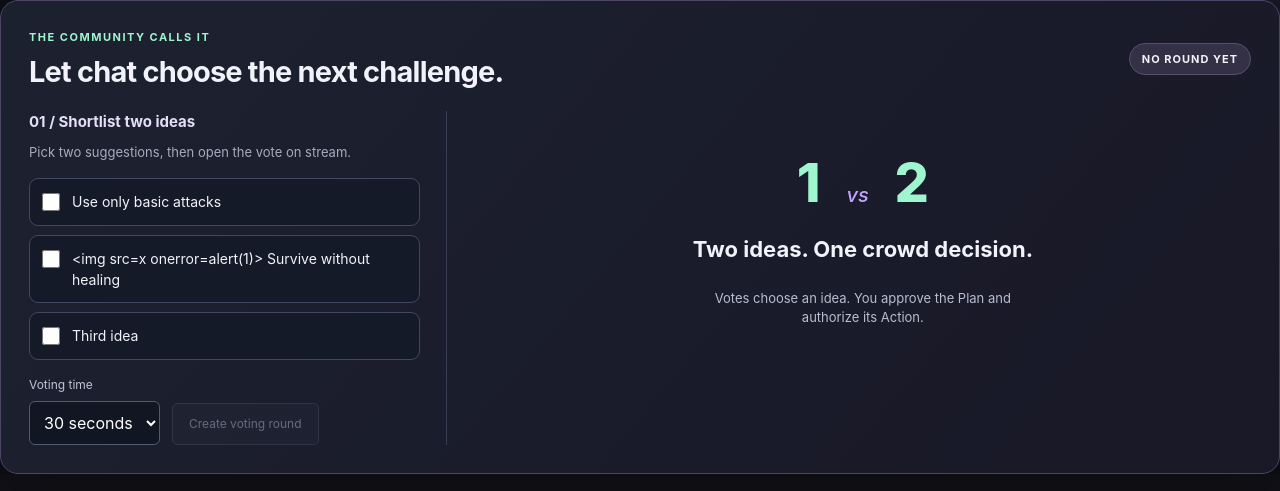
Test: shortlists exactly two and creates only a Draft with no approval request
Expected: the button "Create voting round" is disabled, [172, 403, 318, 445]
Click the checkbox labelled "Use only basic attacks".
click(51, 202)  # box [42, 193, 60, 211]
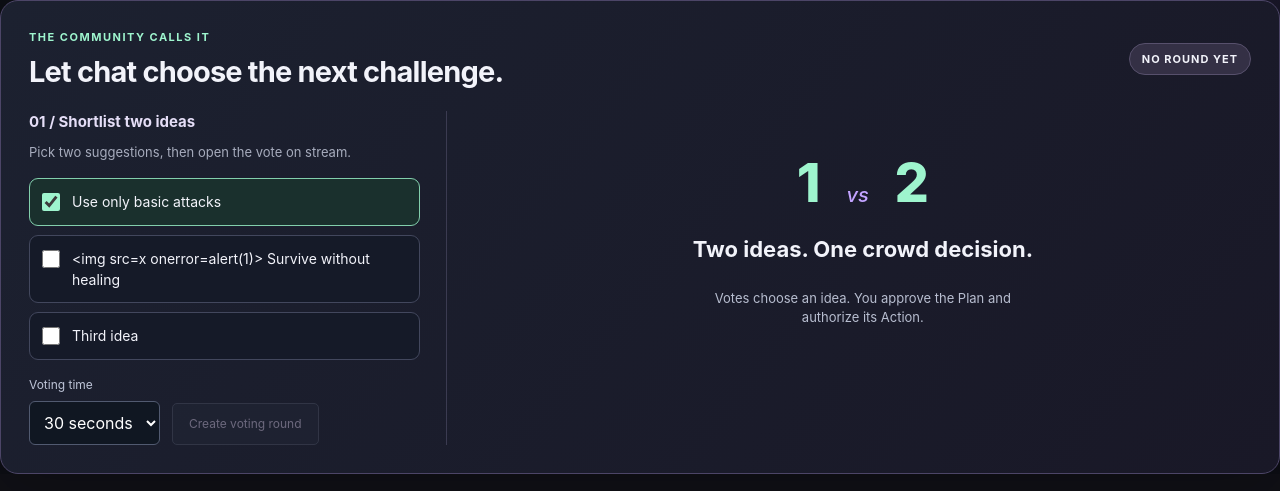
Click the checkbox labelled "<img src=x onerror=alert(1)> Survive without healing".
click(51, 259)  # box [42, 250, 60, 268]
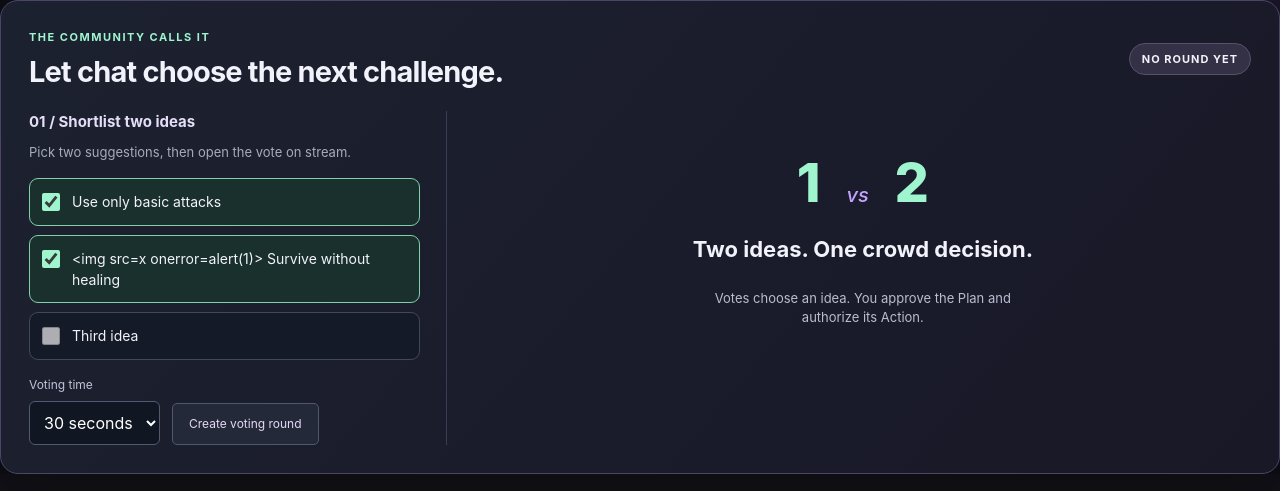
Expected: the checkbox named "Shortlist Third idea" is disabled, [42, 327, 60, 345]
Expected: the button "Create voting round" is enabled
Click the button "Create voting round".
click(245, 424)  # box [172, 403, 318, 445]
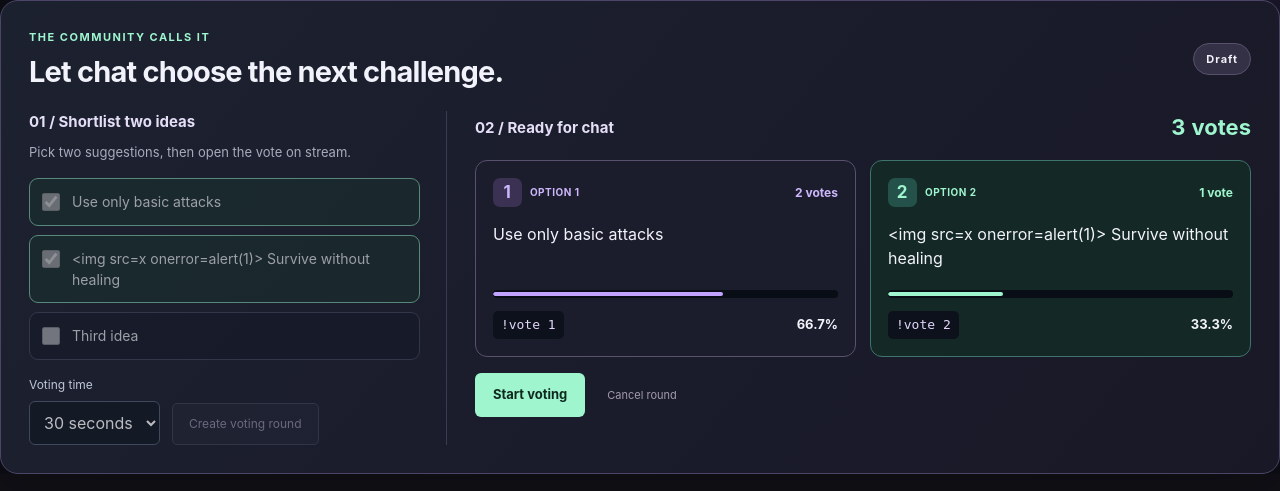
Expected: the button "Start voting" is enabled, [475, 373, 585, 417]
